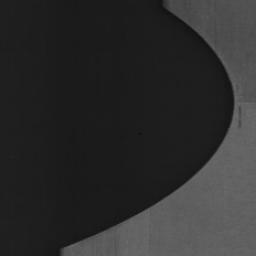Crescent gap: (65, 7, 234, 247)
